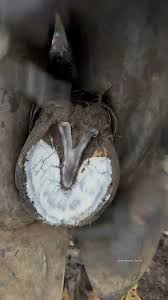horsesole: (14, 120, 121, 229)
